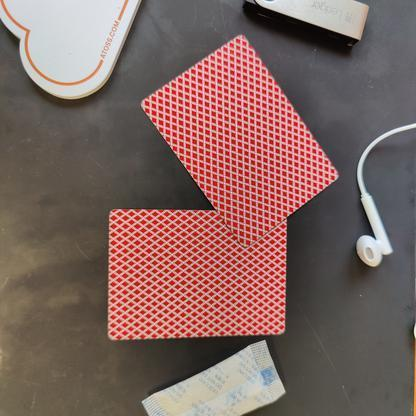card: (137, 30, 349, 248), (101, 202, 295, 346)
